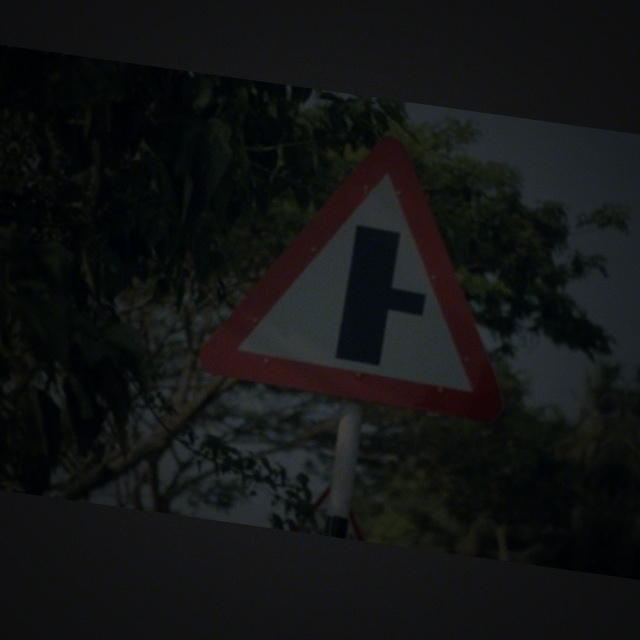Side_Road_Right: (212, 122, 533, 424)
